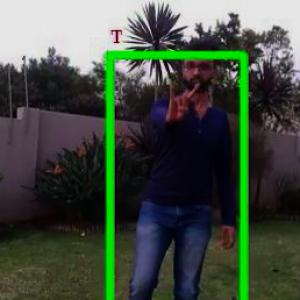takeoff-hand: (158, 72, 204, 128)
